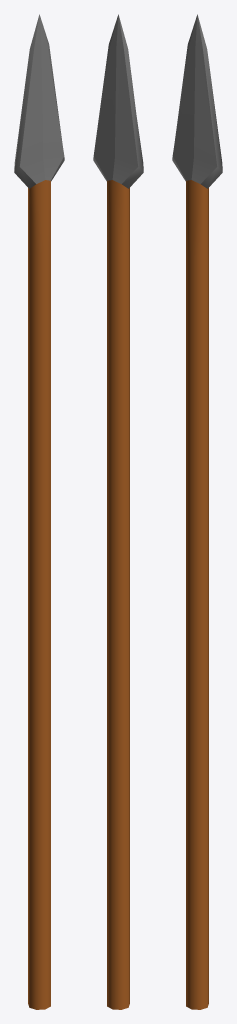
The model's file is Spear.fbx.
3 renders of one model, left to right at view 1: azimuth 30°, elevation 25°; view 2: azimuth 150°, elevation 25°; view 3: azimuth 330°, elevation 25°, orthographic.
Visible parts, largest first — view 1: Spear; view 2: Spear; view 3: Spear.
Boxes of the visible parts, <box> form: Spear: <box>14,14,64,1009</box>; Spear: <box>93,14,143,1009</box>; Spear: <box>172,14,222,1009</box>.
Size of the model in its own units: 19.75 by 370 by 7.96.
